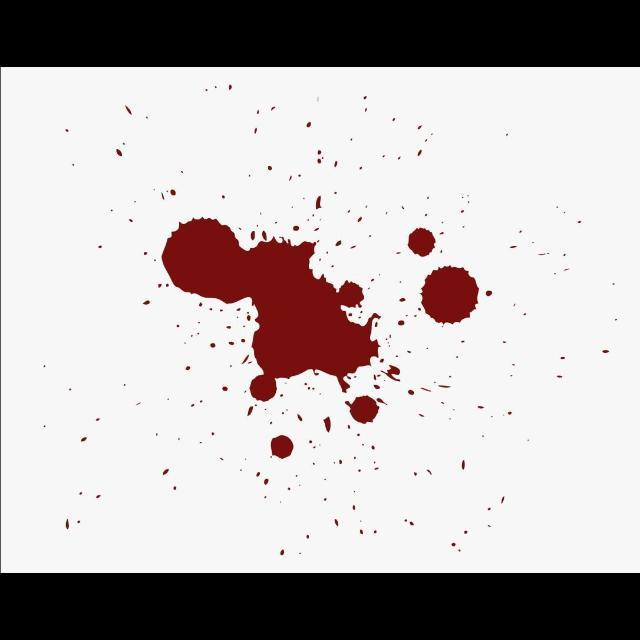blood: (161, 217, 381, 402), (420, 265, 479, 325), (344, 395, 379, 424), (407, 227, 436, 257), (270, 435, 293, 459)
